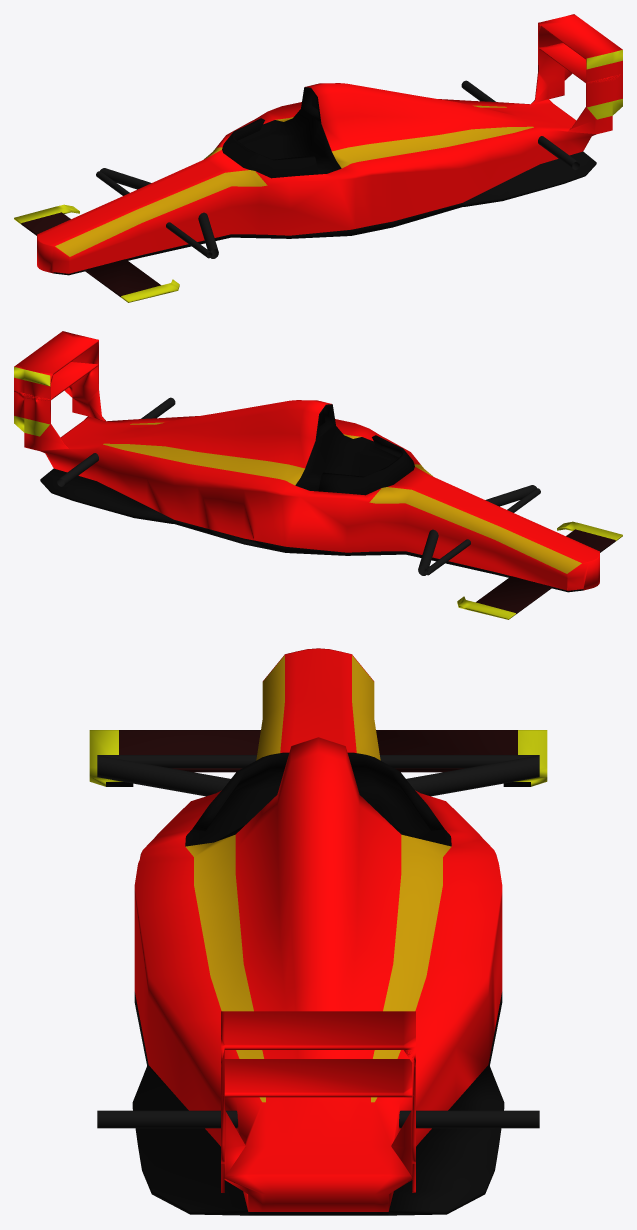
Rendered from RandomRaceCarNoWheels.obj.
3 views of the same model, one above another, from view 1: azimuth 30°, elevation 25°; view 2: azimuth 150°, elevation 25°; view 3: azimuth 270°, elevation 25° (orthographic). The views are drawn at different scales.
Parts seen in each view (by area): view 1: Car_Cube; view 2: Car_Cube; view 3: Car_Cube.
Part boxes in pixels (x1=…): Car_Cube: x1=14, y1=14, x2=622, y2=302; Car_Cube: x1=14, y1=331, x2=622, y2=619; Car_Cube: x1=89, y1=648, x2=547, y2=1215.
Size of the model in its own units: 43.78 by 8.6 by 15.5.
